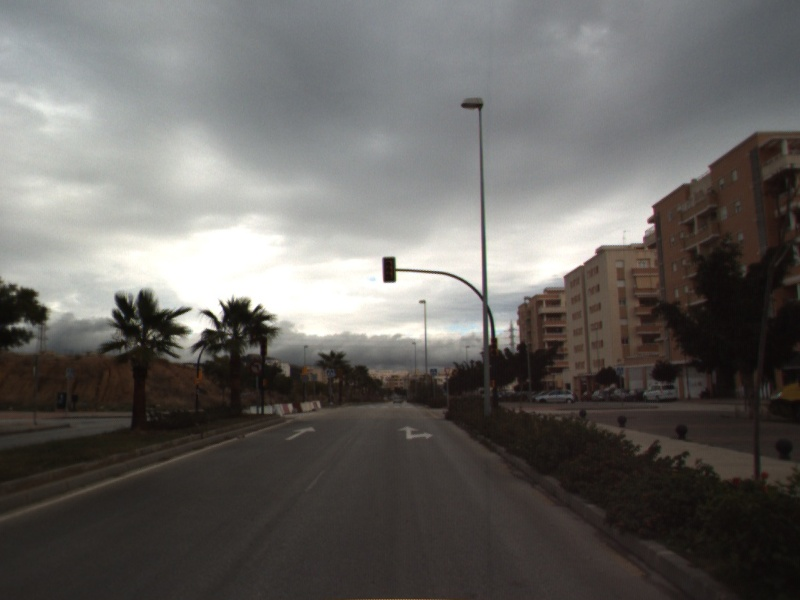STRAIGHT: (283, 424, 318, 442)
STRAIGHT_RIGHT: (396, 423, 436, 441)
